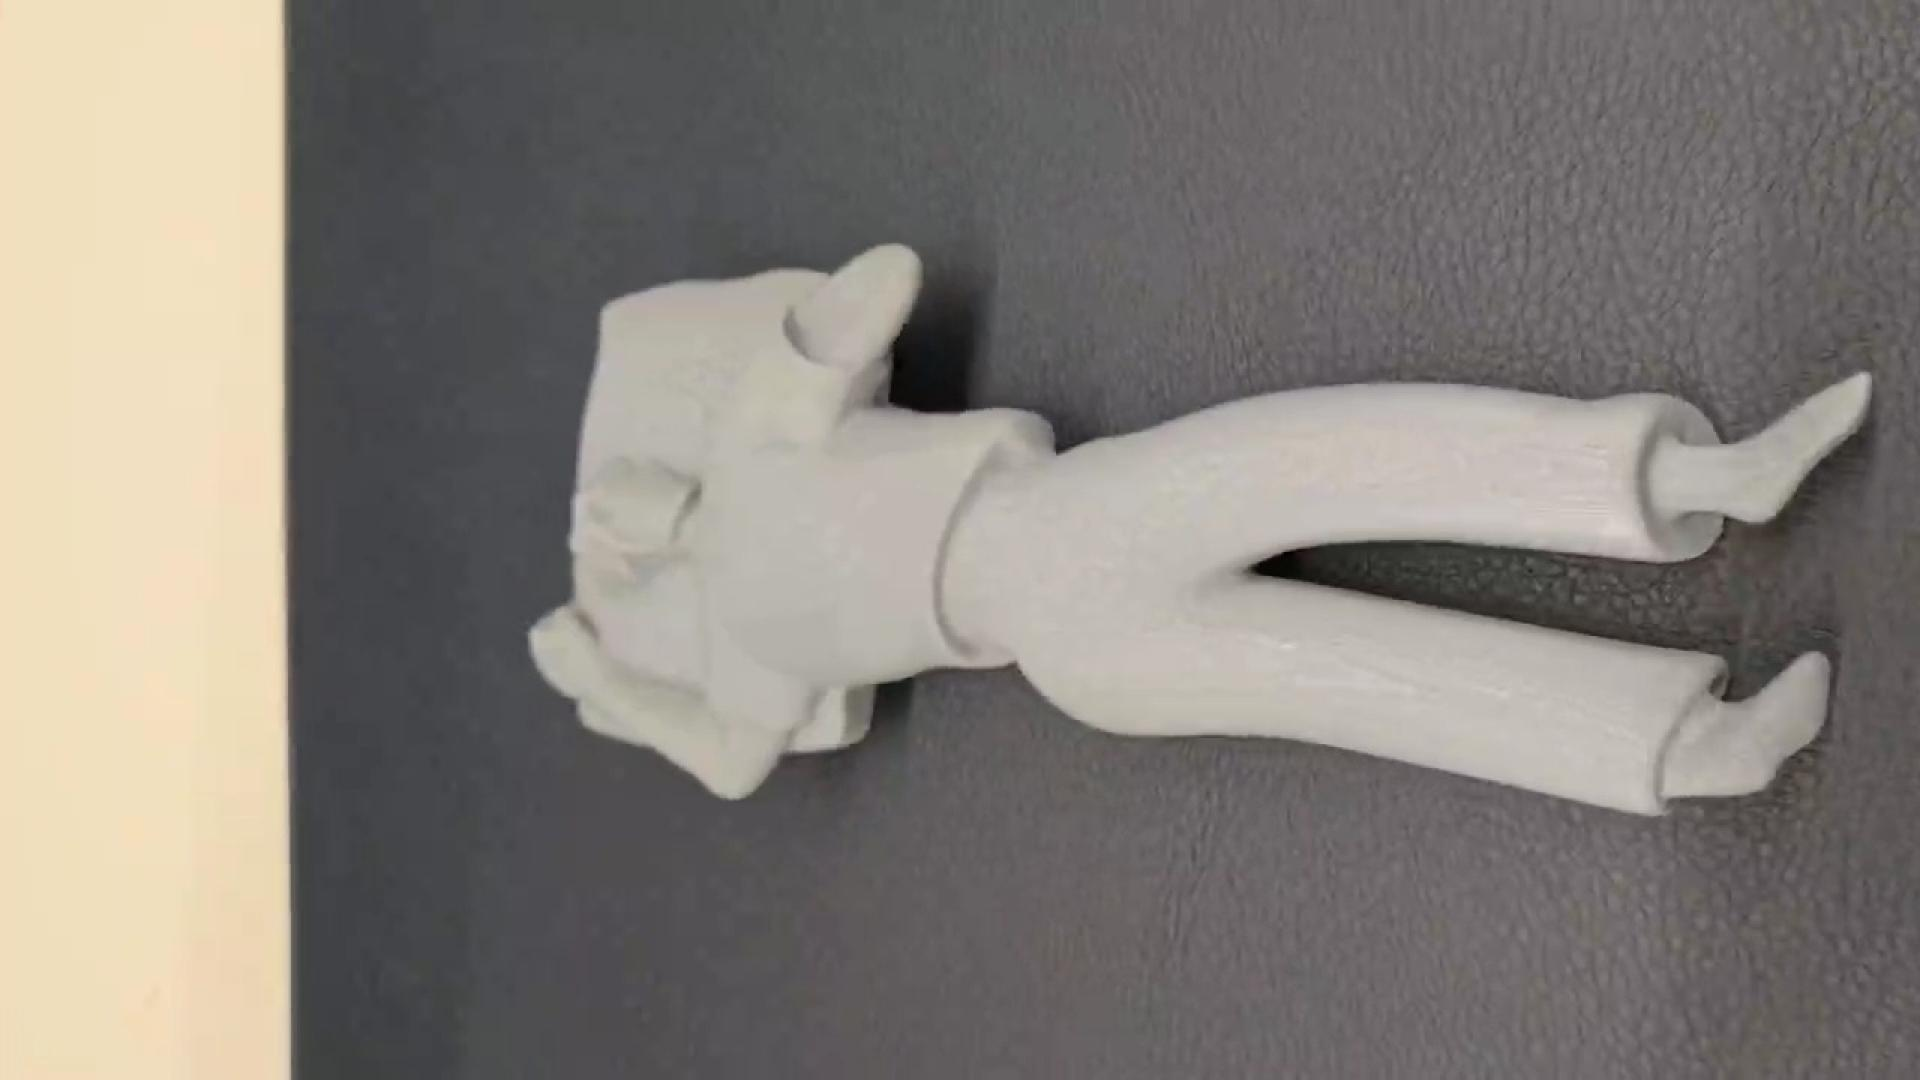Bad-style: (529, 239, 1873, 824)
